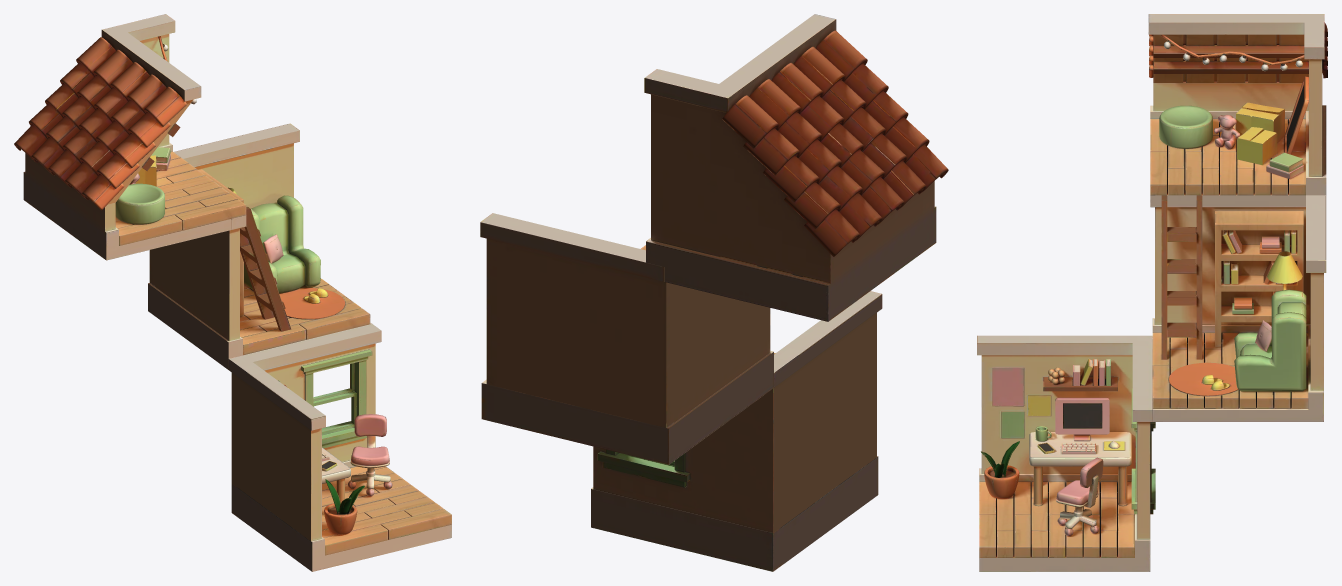
Rendered from WawaOffice-transformed.glb.
3 views of the same model, side by side, from view 1: azimuth 30°, elevation 25°; view 2: azimuth 150°, elevation 25°; view 3: azimuth 270°, elevation 25° (orthographic). The views are drawn at different scales.
Visible parts, largest first — view 1: 01_office, 03_attic, 02_library; view 2: 03_attic, 02_library, 01_office; view 3: 01_office, 02_library, 03_attic.
Part boxes in pixels (bbox=[...]): 01_office: bbox=[228, 324, 451, 571]; 03_attic: bbox=[14, 14, 246, 260]; 02_library: bbox=[148, 123, 371, 369]; 03_attic: bbox=[644, 14, 948, 321]; 02_library: bbox=[480, 213, 773, 464]; 01_office: bbox=[591, 291, 882, 571]; 01_office: bbox=[977, 335, 1155, 571]; 02_library: bbox=[1152, 195, 1326, 421]; 03_attic: bbox=[1148, 14, 1327, 207].
Bounding box in the file's own units: 4.42 × 6.54 × 4.51.
3 materials, 3 textured.
